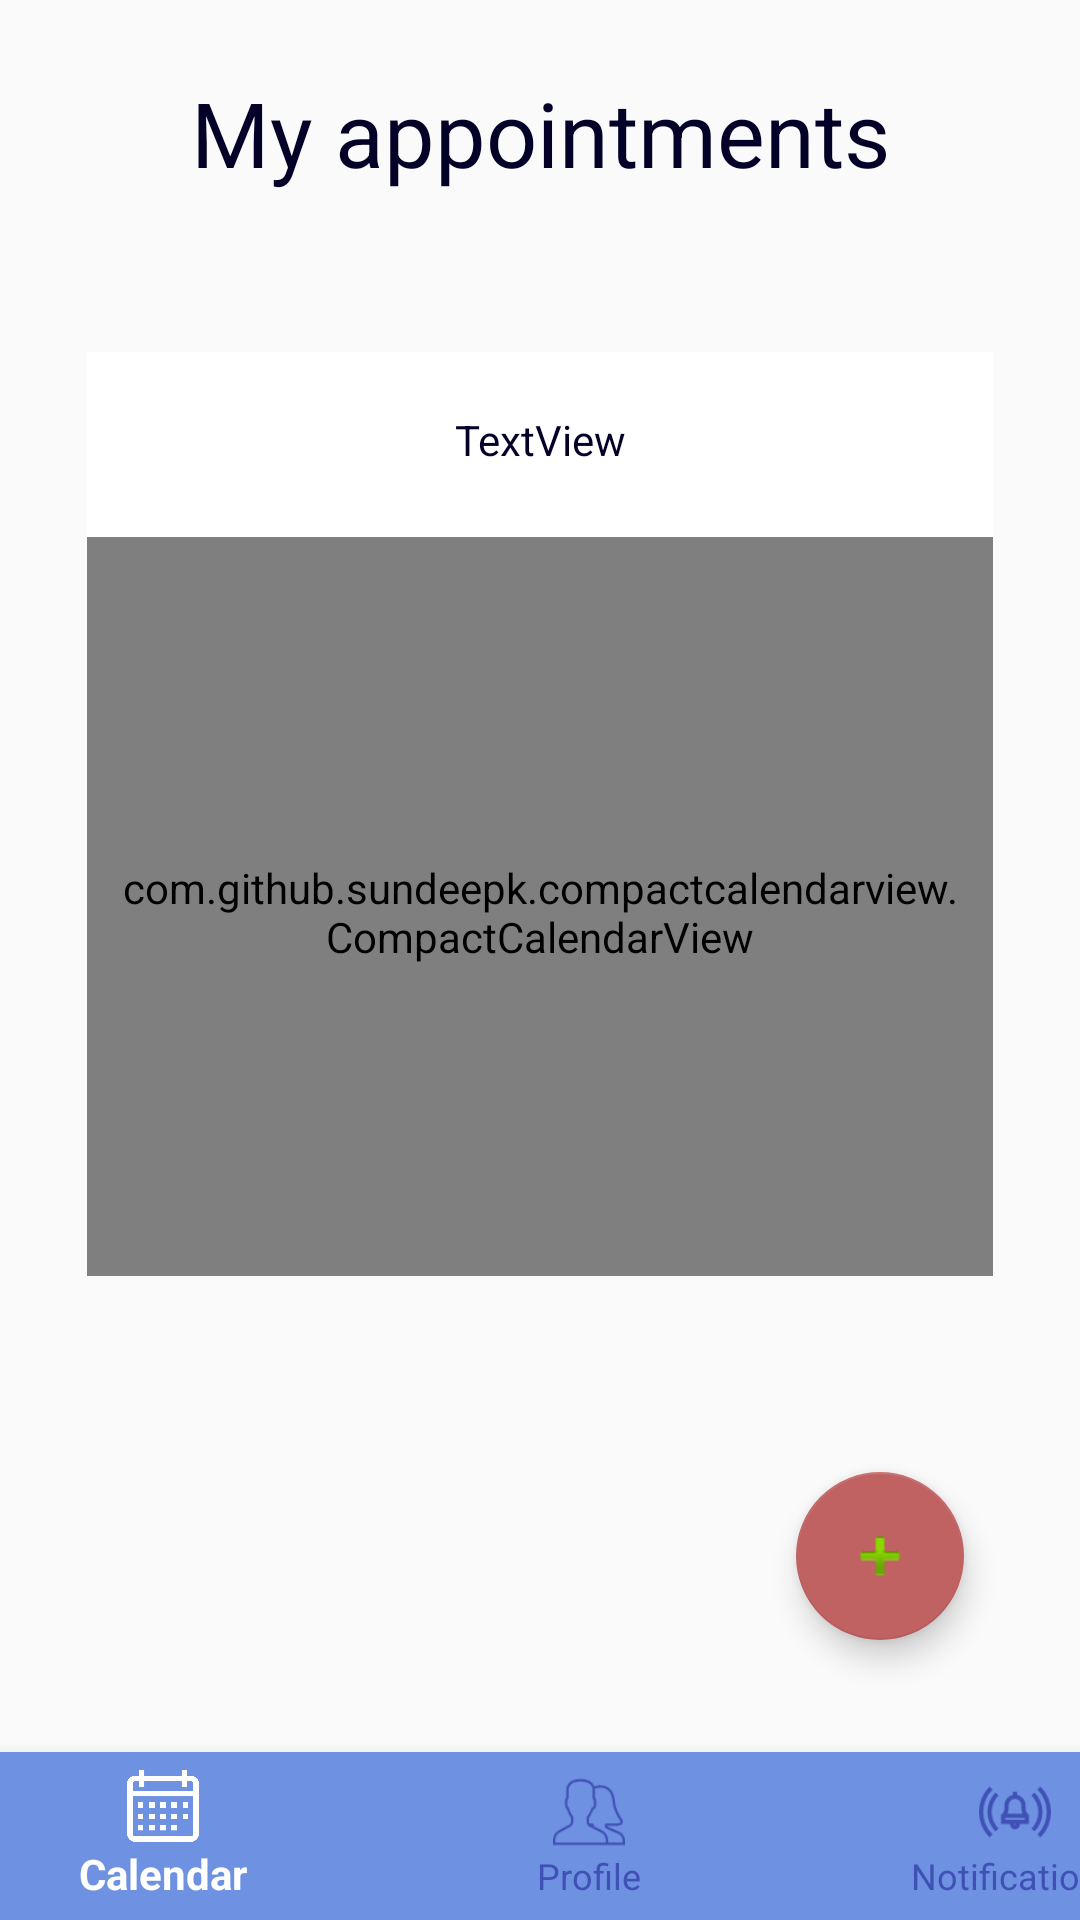

Where to tap for icons on this 1080px×1920px app screen, as [x,y]:
add: [880,1556]
